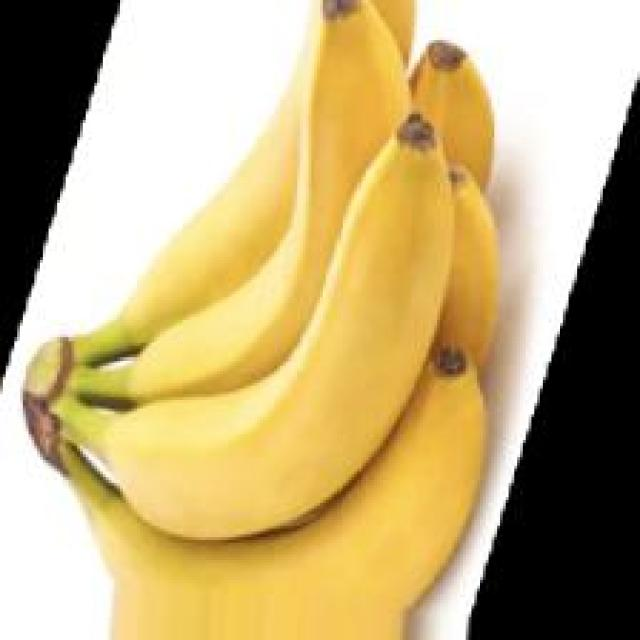banana: (6, 39, 541, 601), (109, 118, 467, 551)
